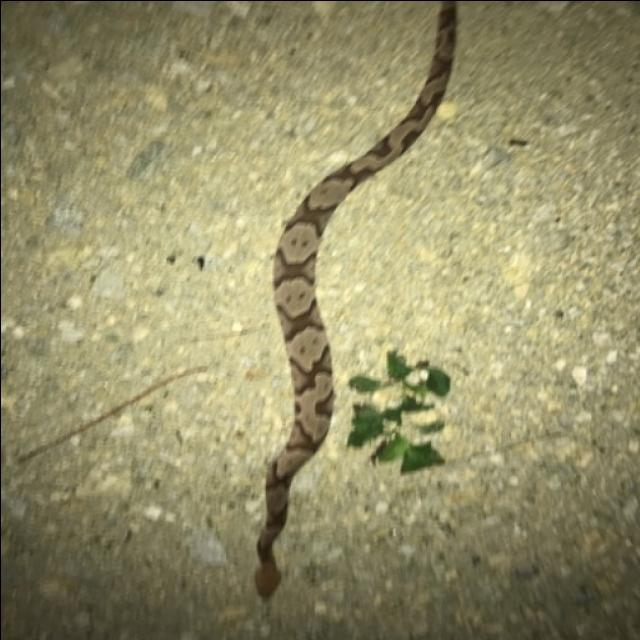snake: (236, 0, 459, 613)
